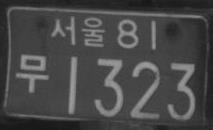1: (59, 54, 86, 115), (143, 19, 162, 51)
2: (128, 60, 161, 121)
3: (92, 57, 125, 119), (166, 61, 196, 122)
8: (116, 18, 139, 49)
무: (14, 53, 49, 93)
서울_O: (50, 15, 105, 48)
